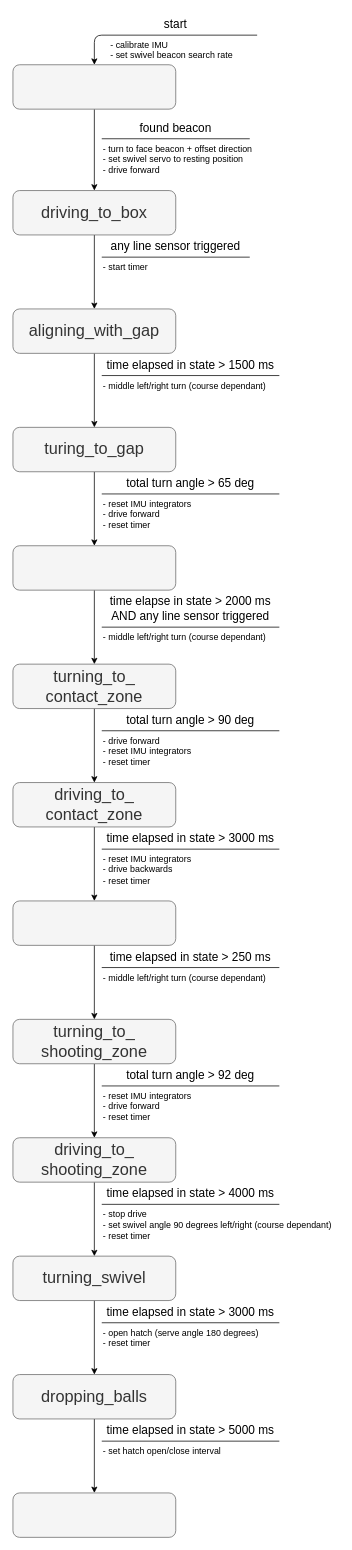
The diagram is 352 pixels wide and 1550 high, and some of its shapes have lost their labels. The box of each missing label's shape, as (x1, y1, x2, y2) in pixels:
celebrating: (12, 1492, 176, 1537)
driving_through_gap: (12, 545, 176, 590)
orienting: (12, 64, 176, 109)
retreating_from _contact_zone: (12, 900, 176, 945)
